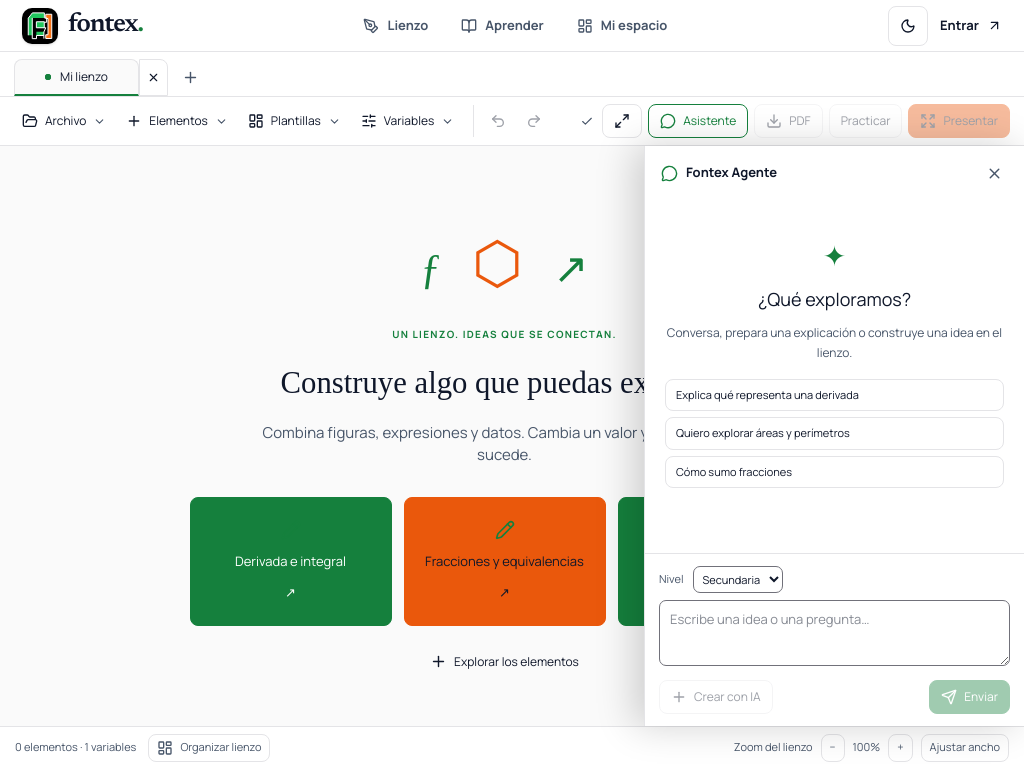
Test case: keeps the chat available while tools open, and restores its draft after hiding it
The image size is (1024, 768).
Type "Explica las áreas" into the text box named "Mensaje para Fontex AI" at [834, 632], box [659, 600, 1010, 666]
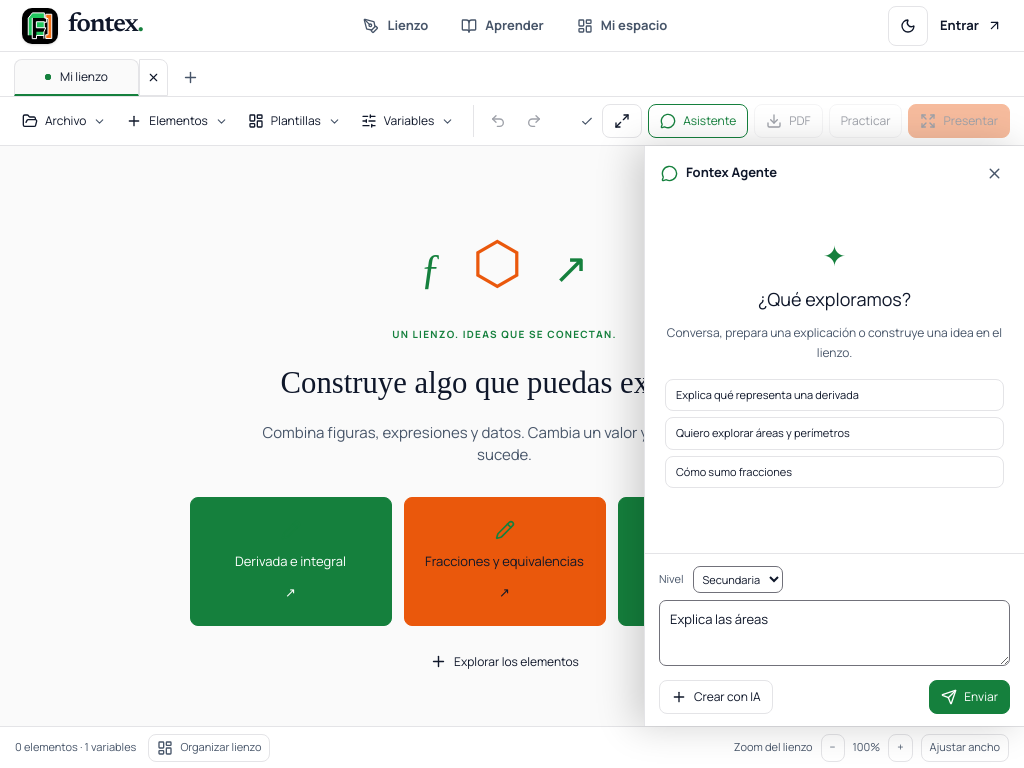
Click the button "Elementos" at [177, 121], box [118, 104, 236, 138]
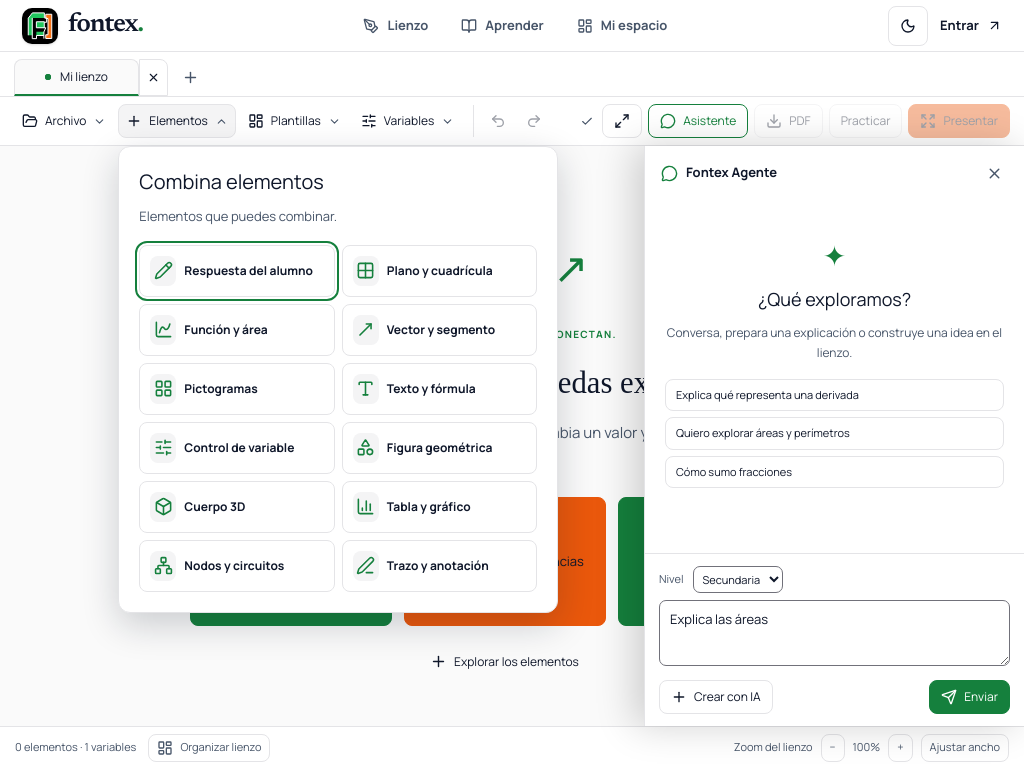
Expected: the element that starts with "¿Qué exploramos?" is shown, [645, 200, 1023, 552]
Expected: the element "elementos" is shown, [118, 146, 558, 612]
Click the button "Asistente" at [698, 121], box [648, 104, 748, 138]
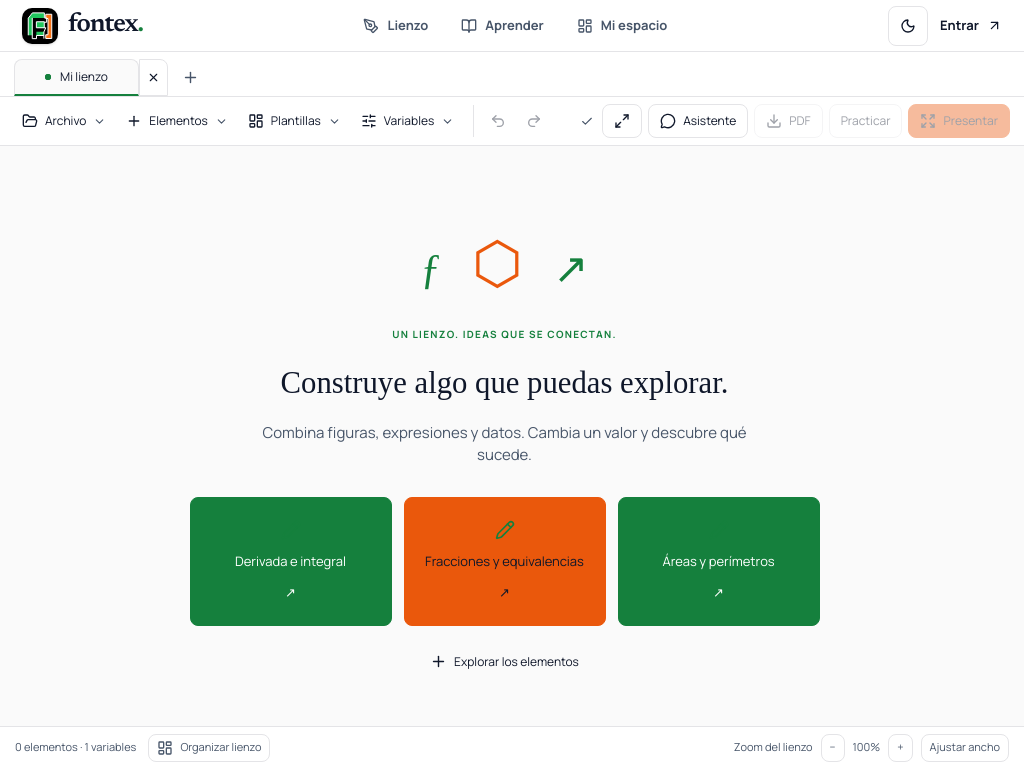
Click the button "Asistente" at [698, 121], box [648, 104, 748, 138]
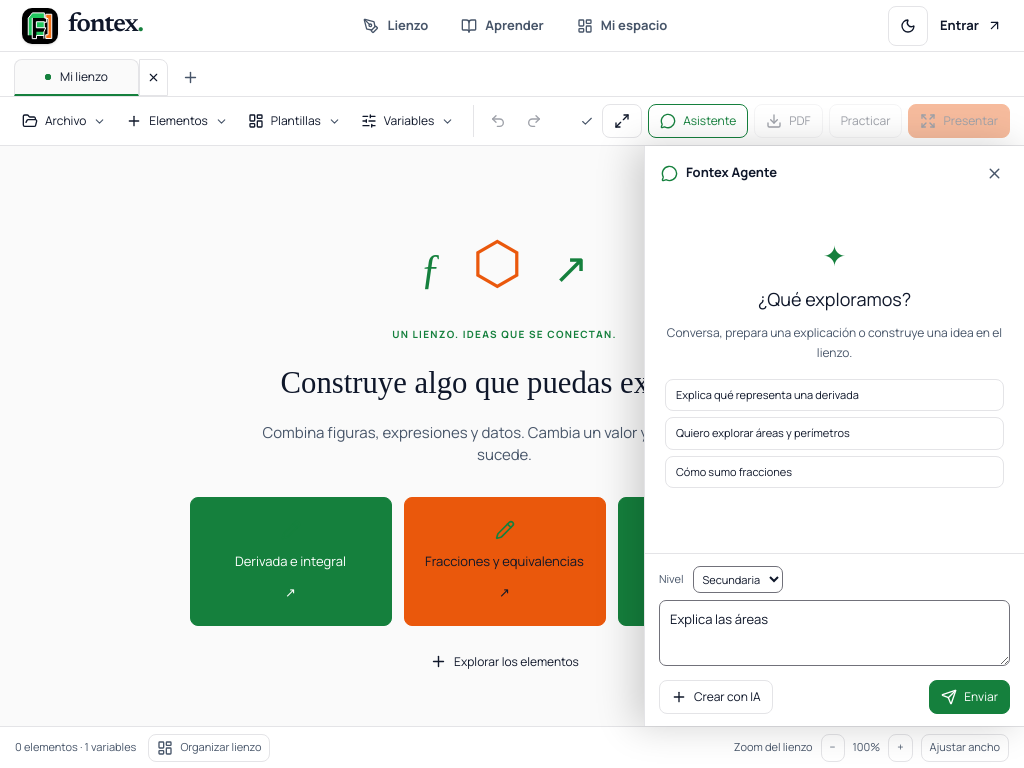
Expected: the text box named "Mensaje para Fontex AI" holds "Explica las áreas", [659, 600, 1010, 666]
